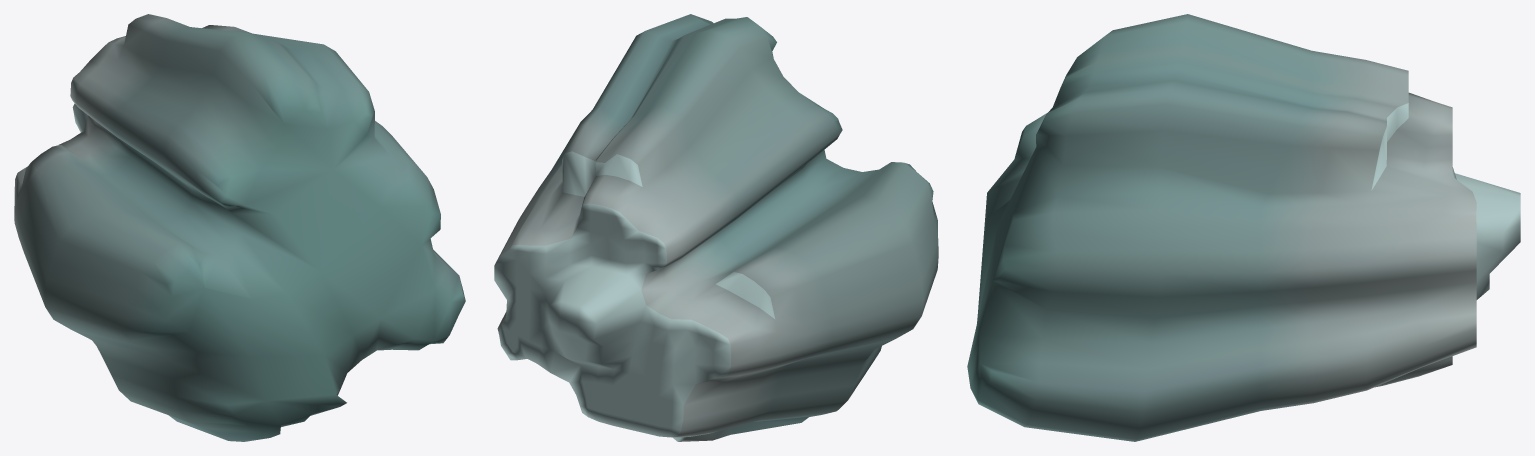
Rendered from Iceberg.003.glb.
The picture shows the model from 3 angles, left to right: view 1: azimuth 30°, elevation 25°; view 2: azimuth 150°, elevation 25°; view 3: azimuth 270°, elevation 25°; orthographic projection. The views are drawn at different scales.
Parts seen in each view (by area): view 1: Iceberg.003; view 2: Iceberg.003; view 3: Iceberg.003.
Part boxes in pixels (box(x1,y1,x2,y2)): Iceberg.003: box(14, 14, 465, 441); Iceberg.003: box(494, 14, 938, 441); Iceberg.003: box(967, 14, 1520, 441).
Size of the model in its own units: 727 by 694 by 806.
